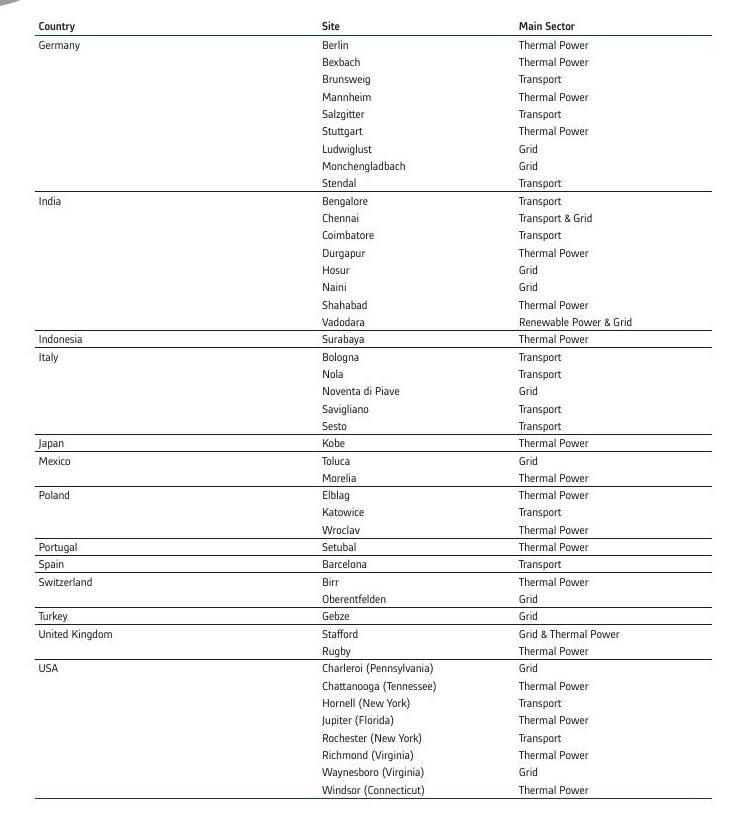table: (0, 0, 730, 826)
